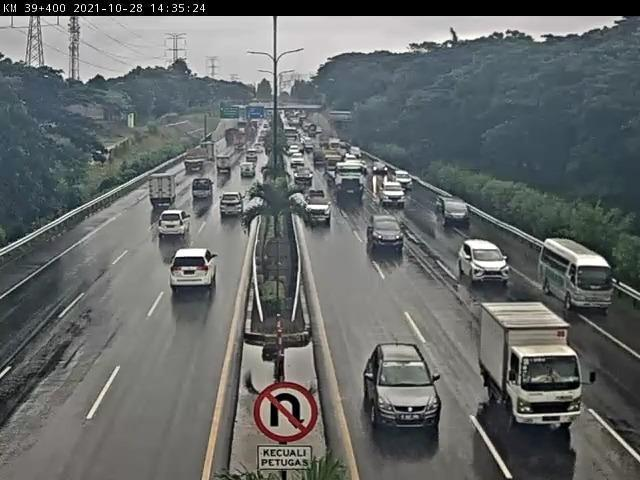bus: (539, 236, 620, 315)
car: (361, 341, 446, 438), (458, 239, 512, 287), (170, 245, 221, 294), (367, 211, 407, 256), (434, 193, 474, 230), (305, 193, 335, 227), (159, 209, 191, 238), (218, 189, 246, 222), (381, 181, 407, 210), (191, 177, 215, 203), (392, 168, 416, 192), (292, 167, 318, 189), (237, 160, 259, 179), (372, 159, 391, 180), (291, 151, 308, 169), (245, 148, 262, 163)
truck: (473, 301, 597, 430), (326, 160, 369, 204), (148, 172, 176, 207)
